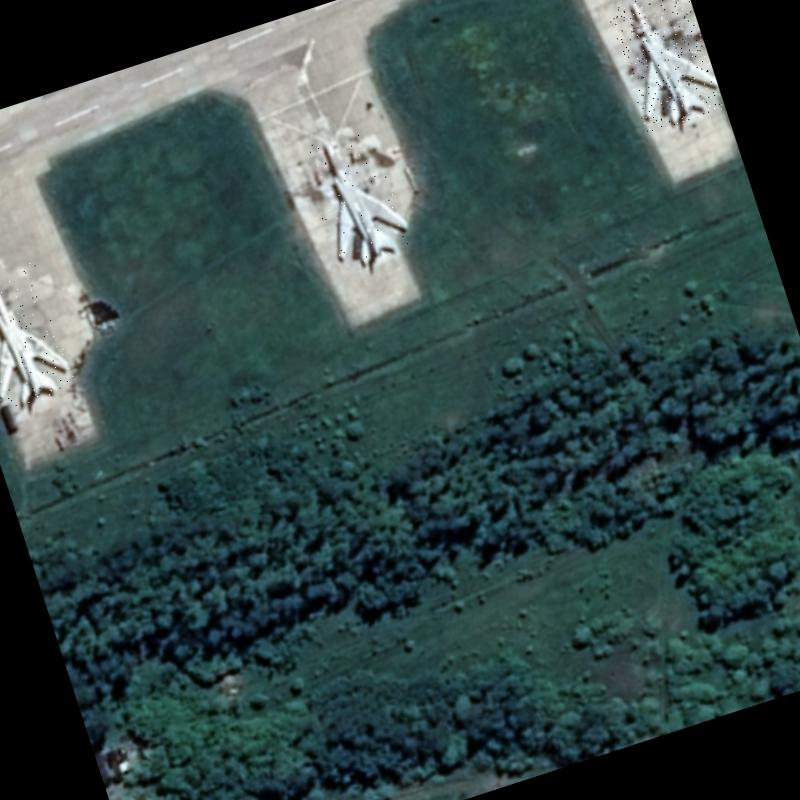A12: (300, 123, 418, 274), (605, 0, 724, 134), (0, 261, 77, 413)
